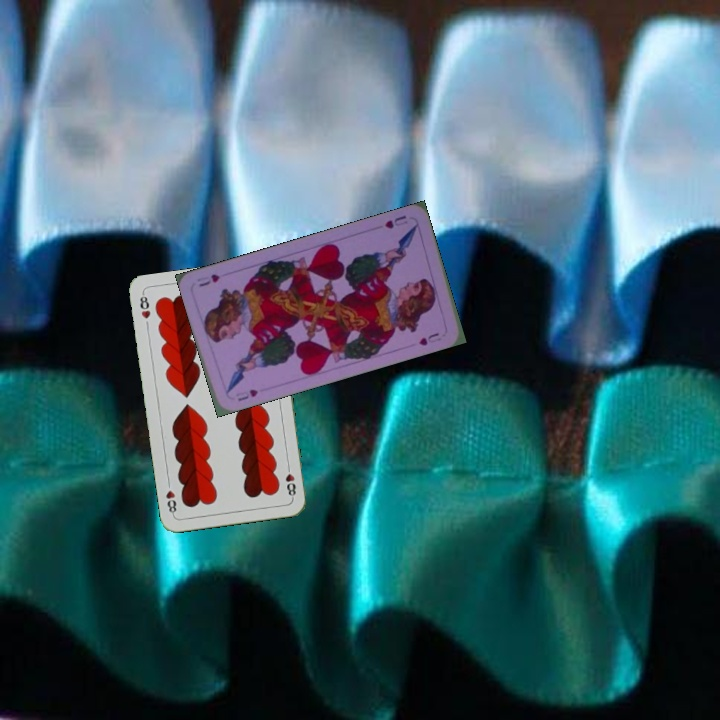H8: (281, 460, 298, 500), (136, 290, 153, 321)
HU: (381, 211, 409, 231), (231, 385, 260, 404)
